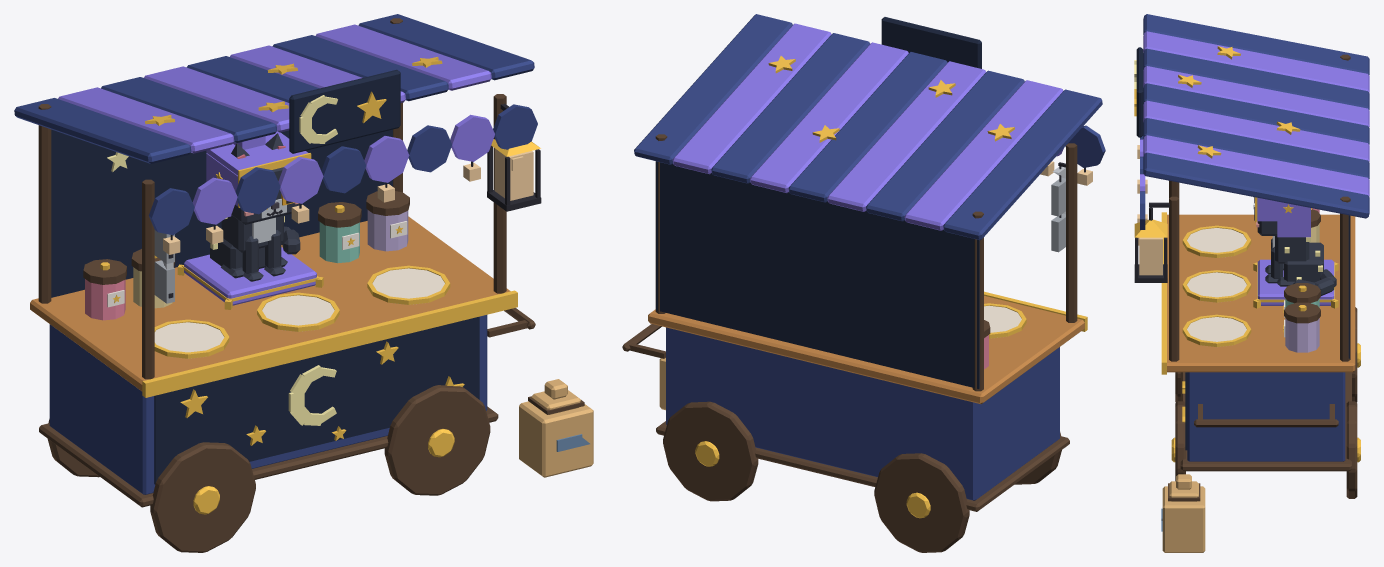
File: CatCafe_Street_DealerCart.fbx
The picture shows the model from 3 angles, left to right: view 1: azimuth 30°, elevation 25°; view 2: azimuth 150°, elevation 25°; view 3: azimuth 270°, elevation 25°; orthographic projection. The views are drawn at different scales.
Visible parts, largest first — view 1: CatCafe_Street_DealerCart_Cart, CatCafe_Street_DealerCart_Cat_Prop, CatCafe_Street_DealerCart_Cat_Body, CatCafe_Street_DealerCart_Bulbs, CatCafe_Street_DealerCart_Bulb, CatCafe_Street_DealerCart_Cat_Head, CatCafe_Street_DealerCart_Cat_LegF2; view 2: CatCafe_Street_DealerCart_Cart; view 3: CatCafe_Street_DealerCart_Cart, CatCafe_Street_DealerCart_Cat_Body, CatCafe_Street_DealerCart_Cat_Prop, CatCafe_Street_DealerCart_Bulb, CatCafe_Street_DealerCart_Cat_Tail, CatCafe_Street_DealerCart_Cat_LegF1, CatCafe_Street_DealerCart_Cat_Head.
Boxes of the visible parts, <box> form: CatCafe_Street_DealerCart_Cart: <box>14,14,593,552</box>; CatCafe_Street_DealerCart_Cat_Prop: <box>206,131,311,216</box>; CatCafe_Street_DealerCart_Cat_Body: <box>210,215,287,278</box>; CatCafe_Street_DealerCart_Bulbs: <box>163,156,523,254</box>; CatCafe_Street_DealerCart_Bulb: <box>494,148,533,200</box>; CatCafe_Street_DealerCart_Cat_Head: <box>231,167,299,224</box>; CatCafe_Street_DealerCart_Cat_LegF2: <box>242,236,263,281</box>; CatCafe_Street_DealerCart_Cart: <box>622,14,1105,552</box>; CatCafe_Street_DealerCart_Cart: <box>1134,14,1369,552</box>; CatCafe_Street_DealerCart_Cat_Body: <box>1272,236,1323,286</box>; CatCafe_Street_DealerCart_Cat_Prop: <box>1255,197,1311,237</box>; CatCafe_Street_DealerCart_Bulb: <box>1139,237,1162,275</box>; CatCafe_Street_DealerCart_Cat_Tail: <box>1293,269,1336,295</box>; CatCafe_Street_DealerCart_Cat_LegF1: <box>1265,246,1283,283</box>; CatCafe_Street_DealerCart_Cat_Head: <box>1256,221,1277,235</box>.
Bounding box in the file's own units: 6.62 × 6.35 × 3.57.
1 material, 1 textured.
